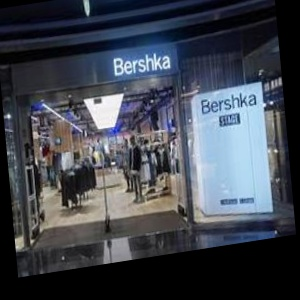bershka: (85, 25, 288, 172), (118, 5, 231, 85)
